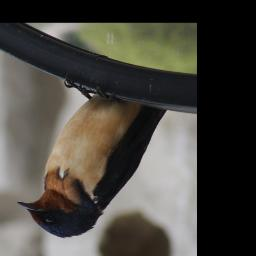Swallow: (16, 74, 170, 240)
